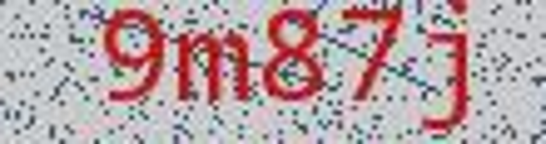7: (336, 4, 408, 118)
8: (259, 2, 332, 111)
9: (91, 1, 169, 133)
j: (412, 2, 481, 137)
m: (171, 13, 262, 124)
